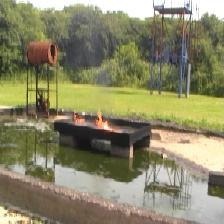fire: (72, 111, 114, 130)
